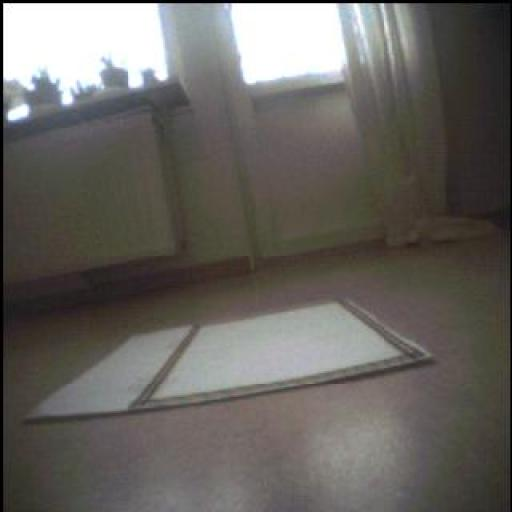Pad: (16, 291, 438, 427), (364, 290, 366, 295)
